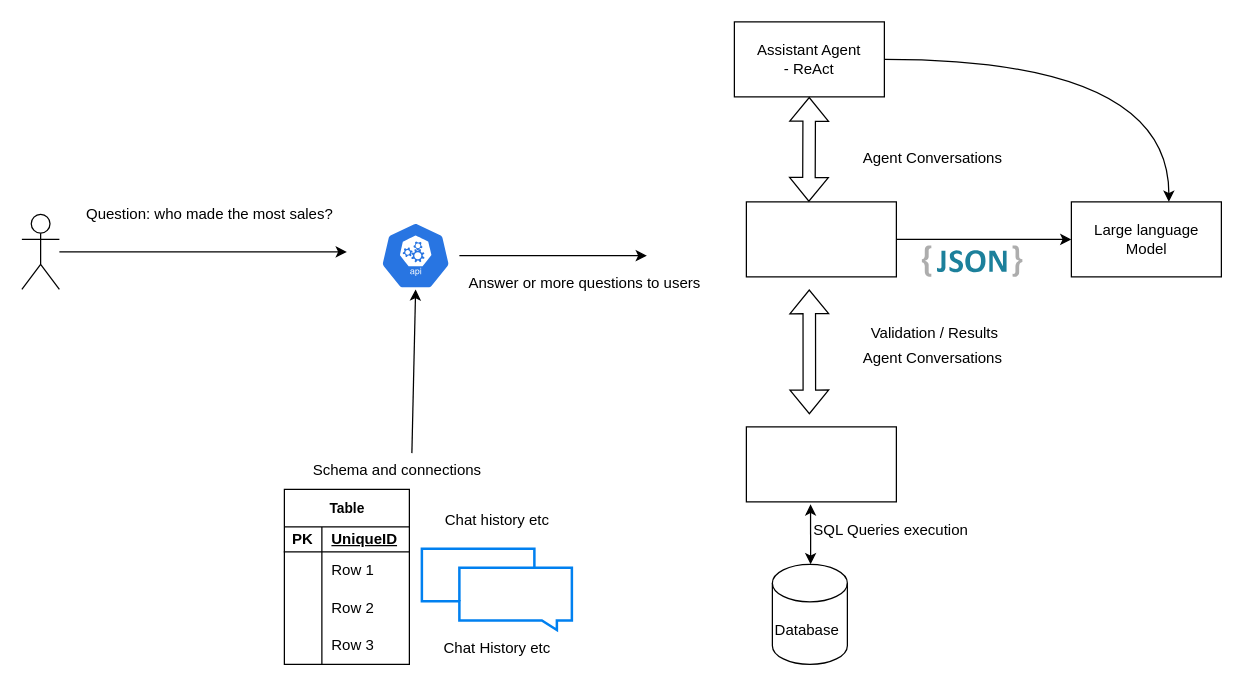
Image size: 1244x686. Some labels were removed from this diagram. Each missing label, with the box of its shape:
Actor: (21, 213, 59, 289)
Agent with Function calling: (745, 201, 896, 277)
Function Tool for validating and generating sql queries: (745, 426, 896, 502)
